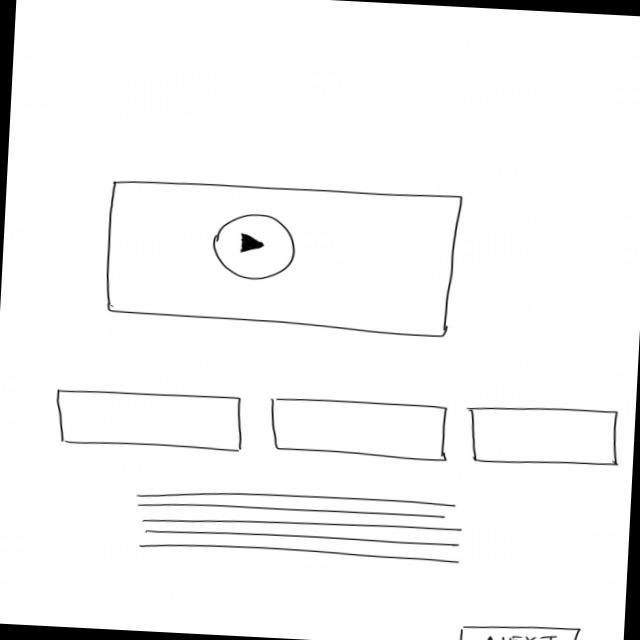button: (454, 619, 582, 640)
container: (55, 384, 245, 454), (268, 394, 452, 464), (463, 402, 622, 472)
textbox: (134, 482, 466, 568)
